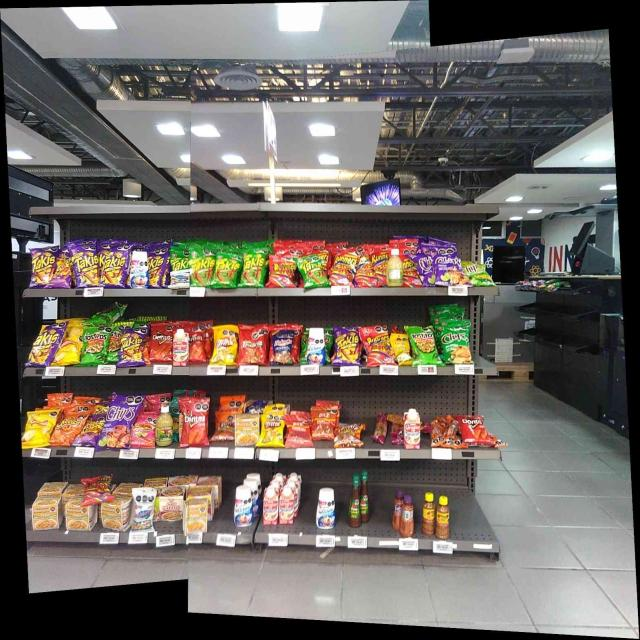bitzEnchilado90: (313, 408, 334, 438), (289, 417, 310, 446)
bitzEnchilado95: (430, 417, 460, 447)
bitzHabanero: (372, 414, 388, 442)
bokadosCacahuates: (272, 329, 292, 366)
botaneraChilito: (437, 495, 450, 539), (422, 492, 435, 535)
cheetosFlaminHot: (83, 418, 103, 443)
cheetosOriginal: (54, 416, 82, 436)
chipsFuego: (105, 404, 135, 443), (437, 256, 462, 288), (419, 253, 436, 284)
chipsJalapeno: (442, 328, 469, 365)
chipsPapatinas: (463, 261, 487, 286)
churrumais: (136, 419, 156, 445)
delPrimoSalsa: (156, 405, 172, 446), (387, 250, 403, 288)
doritosNacho: (182, 397, 207, 446), (184, 402, 208, 446), (151, 326, 172, 362), (462, 415, 486, 443), (190, 330, 205, 361)
fritosLimon: (214, 331, 237, 364), (262, 418, 284, 445)
leoCacahuates: (134, 487, 154, 531), (170, 270, 190, 289)
leoMix: (212, 410, 235, 440), (338, 423, 362, 447)
maruchanPollo: (102, 501, 130, 532), (32, 498, 60, 528), (66, 505, 93, 530), (186, 501, 207, 531)
nestleCarnation: (402, 408, 421, 450), (172, 328, 189, 366), (279, 487, 294, 525), (264, 488, 278, 525)
nestleLechera: (316, 487, 337, 530), (233, 486, 255, 526), (306, 327, 326, 366), (130, 251, 150, 288)
nissinRes: (160, 487, 183, 521)
rancheritos: (240, 329, 269, 366)
runners: (365, 329, 390, 364), (84, 475, 112, 499), (334, 254, 356, 284), (272, 257, 294, 286), (372, 251, 387, 281), (357, 256, 371, 287), (404, 257, 418, 284)
sabritasOriginal: (24, 415, 52, 446), (58, 339, 76, 362)
salsaBufalo: (349, 473, 362, 527)
semillasCalabaza: (392, 334, 410, 364)
tajinDulce: (400, 494, 415, 538)
takisFuego: (72, 249, 98, 287), (32, 328, 58, 365), (336, 328, 359, 363), (32, 250, 55, 284), (103, 252, 126, 285), (120, 332, 143, 363), (151, 254, 164, 288)
takisOriginal: (192, 252, 215, 284), (217, 255, 241, 283), (243, 254, 264, 285), (300, 258, 322, 286), (171, 252, 189, 269)
tostitos: (412, 328, 434, 364), (84, 332, 108, 362), (108, 330, 119, 360)
